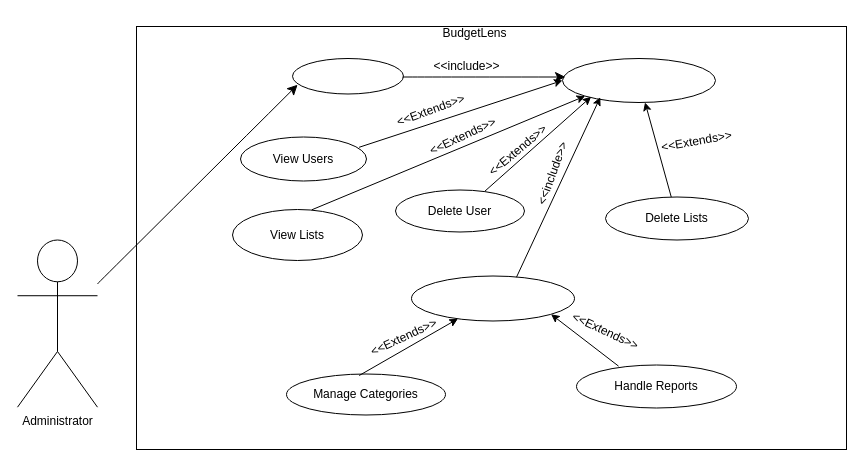
Image size: 864x467. Some labels were removed from this diagram. The shapes that lost their labels are listed below. From the top down, each one's box as (x1, y1, x2, y2) in pixels, then its label:
(292, 58, 404, 94): Log In
(562, 58, 716, 102): Admin Dashboard
(410, 275, 574, 321): Monitor Activity / Audit Logs
